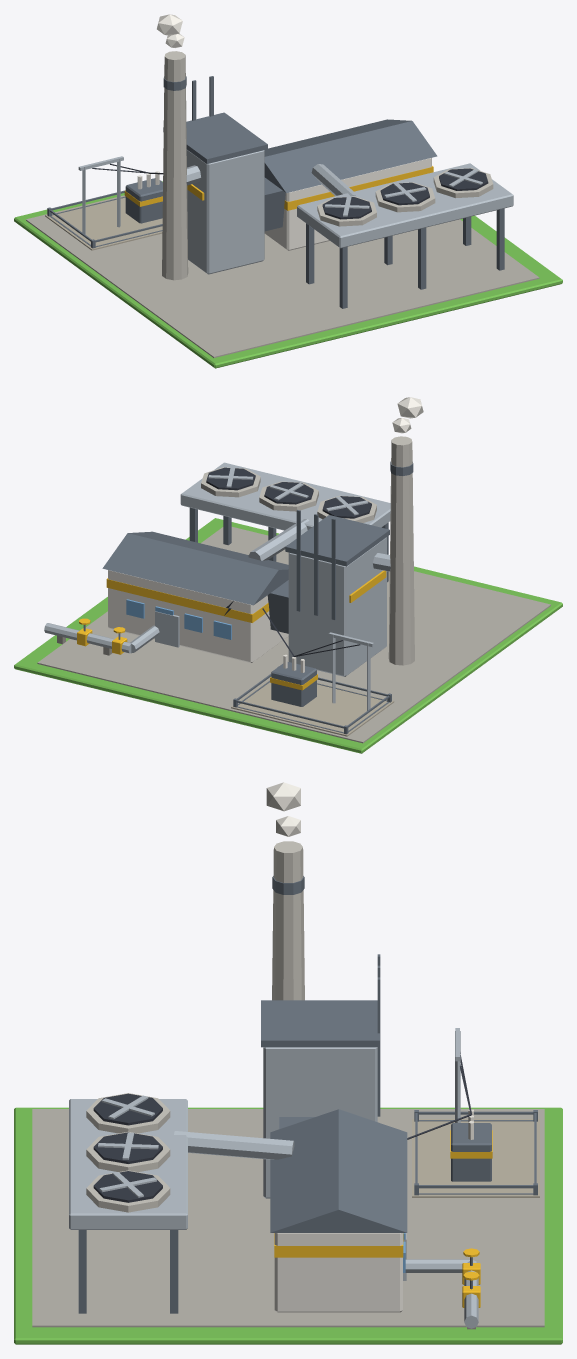
Rendered from gas_combined.glb.
The picture shows the model from 3 angles, top to bottom: view 1: azimuth 30°, elevation 25°; view 2: azimuth 150°, elevation 25°; view 3: azimuth 270°, elevation 25°; orthographic projection. The views are drawn at different scales.
Visible parts, largest first — view 1: corpo; view 2: corpo; view 3: corpo.
Part boxes in pixels (x1=…): corpo: x1=14, y1=14, x2=562, y2=368; corpo: x1=14, y1=397, x2=562, y2=753; corpo: x1=14, y1=782, x2=562, y2=1344.
Bounding box in the file's own units: 6 × 4.43 × 6.
